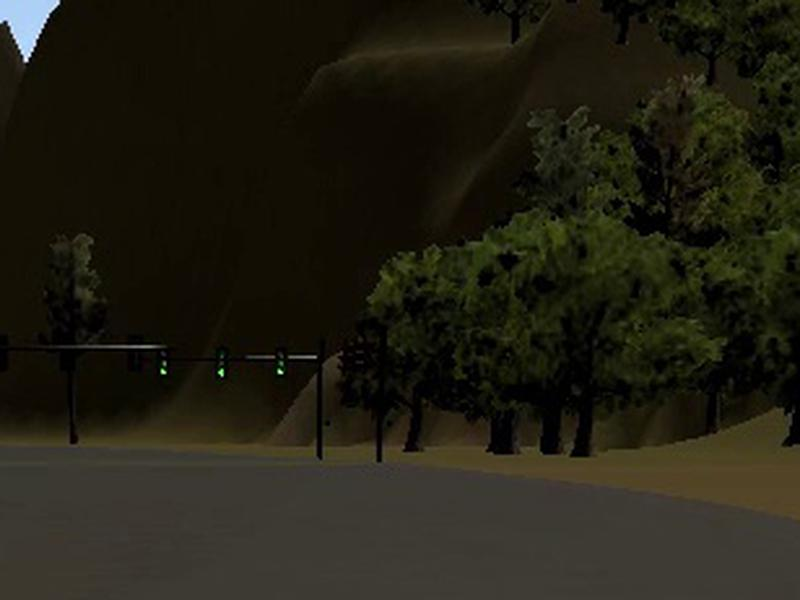Green: (215, 346, 229, 380), (275, 345, 288, 378), (158, 347, 170, 377)
